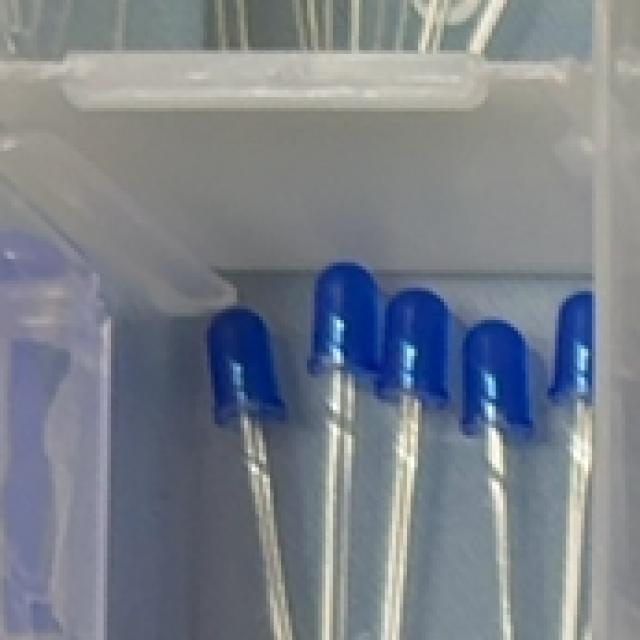BLUE_LED: (203, 305, 295, 640), (374, 289, 452, 640), (460, 312, 540, 640), (311, 260, 378, 640), (544, 287, 592, 640)
